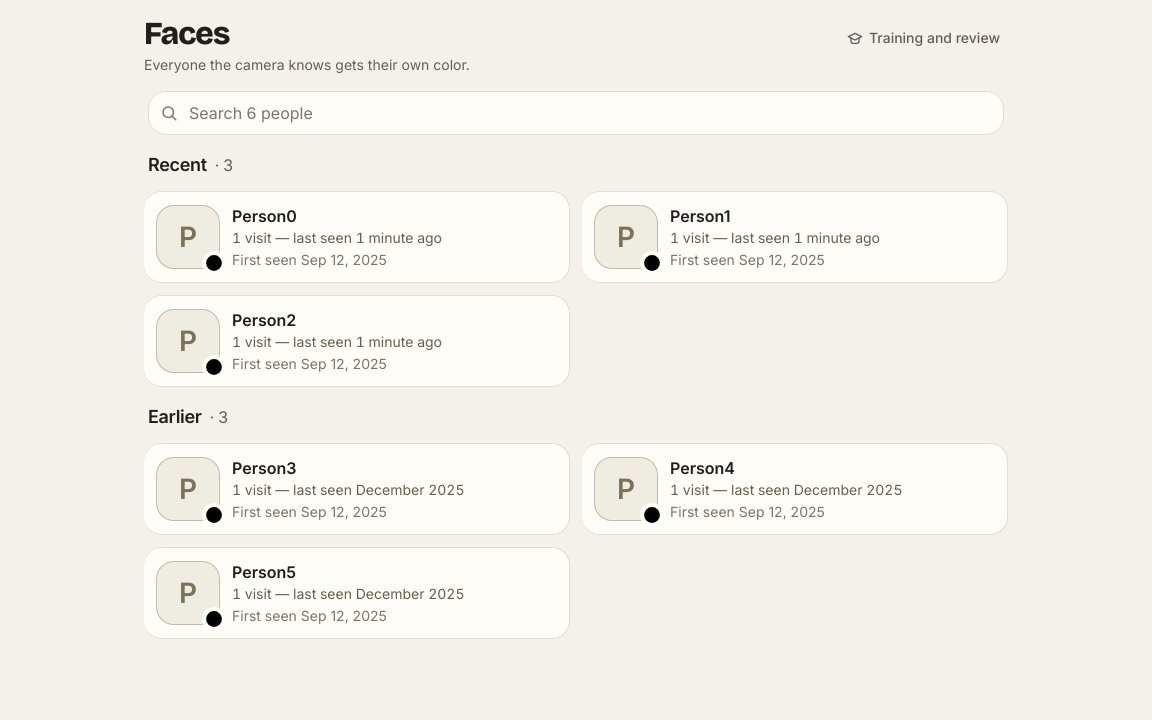
People page › given the user searches with a query, when results render, then partition headings are HIDDEN even if mixed-recency (iter-344: search results stay flat)
In the search field: (576, 113) [148,91,1004,135], type "Person"
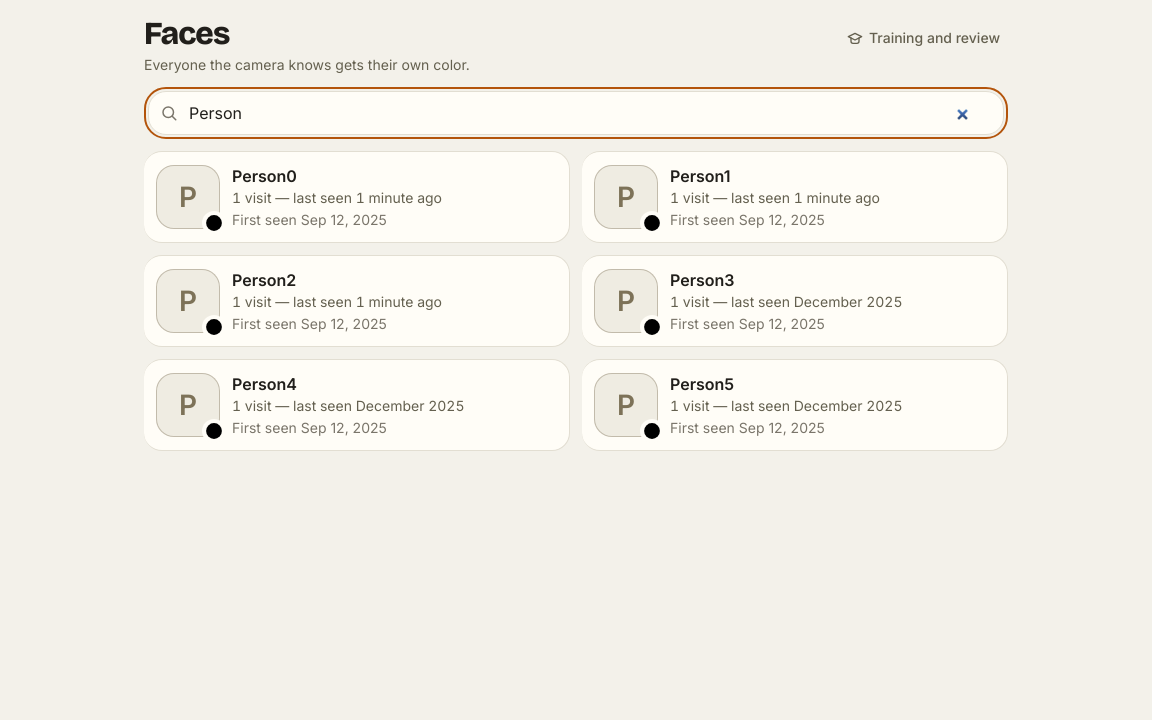
Expected: the heading "Recent" is gone
